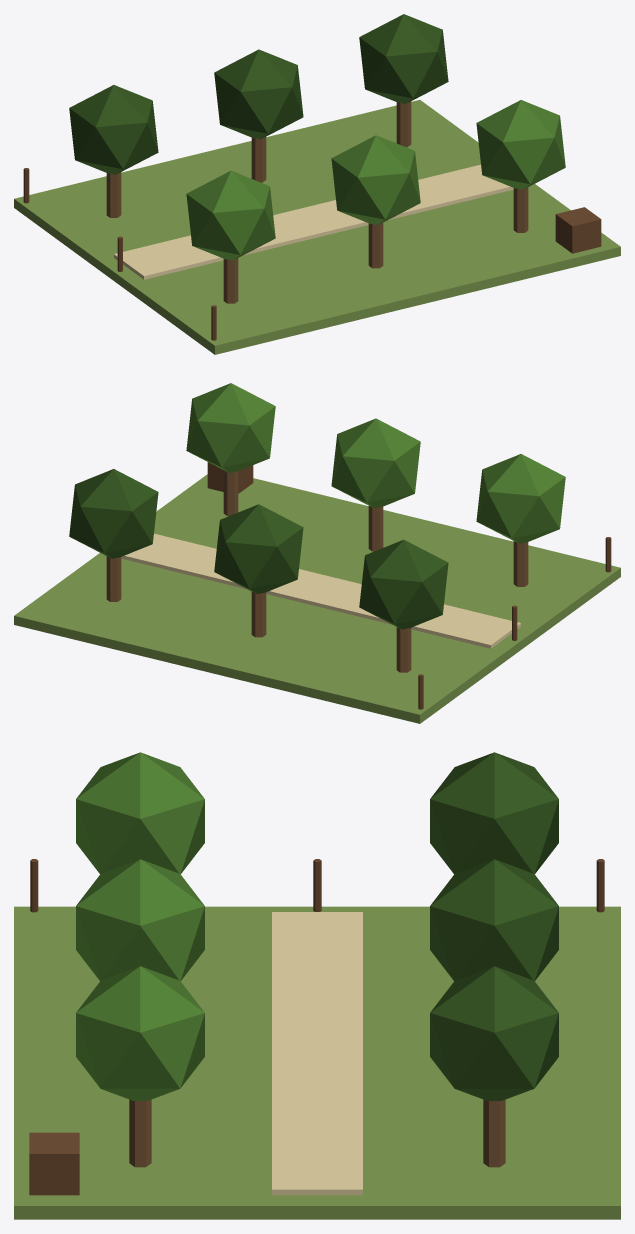
The model's file is landscape.orchard-row.glb.
The picture shows the model from 3 angles, top to bottom: view 1: azimuth 30°, elevation 25°; view 2: azimuth 150°, elevation 25°; view 3: azimuth 270°, elevation 25°; orthographic projection. The views are drawn at different scales.
Visible parts, largest first — view 1: landscape.orchard-row; view 2: landscape.orchard-row; view 3: landscape.orchard-row.
Boxes of the visible parts, x1=… form: landscape.orchard-row: x1=14, y1=14, x2=620, y2=354; landscape.orchard-row: x1=14, y1=383, x2=620, y2=723; landscape.orchard-row: x1=14, y1=752, x2=620, y2=1219.
Size of the model in its own units: 14 by 4.6 by 12.
